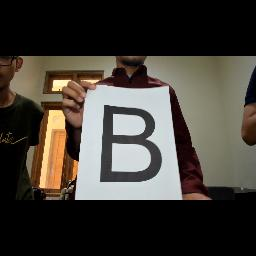b: (97, 102, 165, 186)
